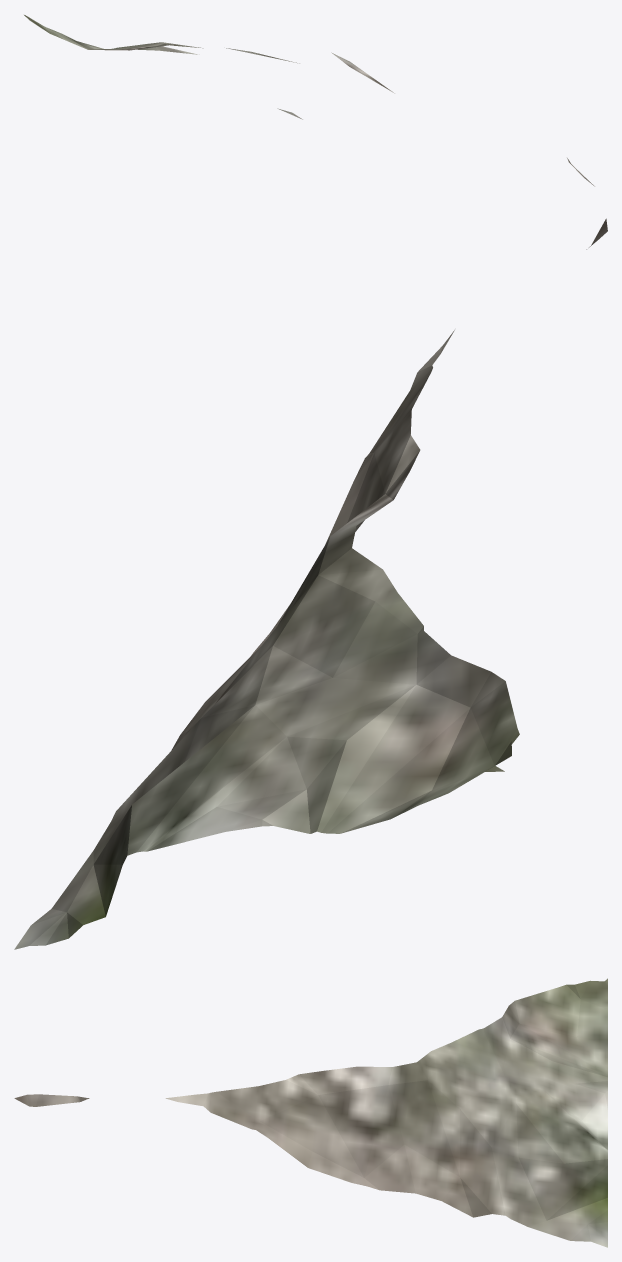
3 views of the same model, one above another, from view 1: azimuth 30°, elevation 25°; view 2: azimuth 150°, elevation 25°; view 3: azimuth 270°, elevation 25° (orthographic). The views are drawn at different scales.
Bounding box in the file's own units: 0.5879 × 0.341 × 1.23.
Materials: 1 (1 with a texture image).
